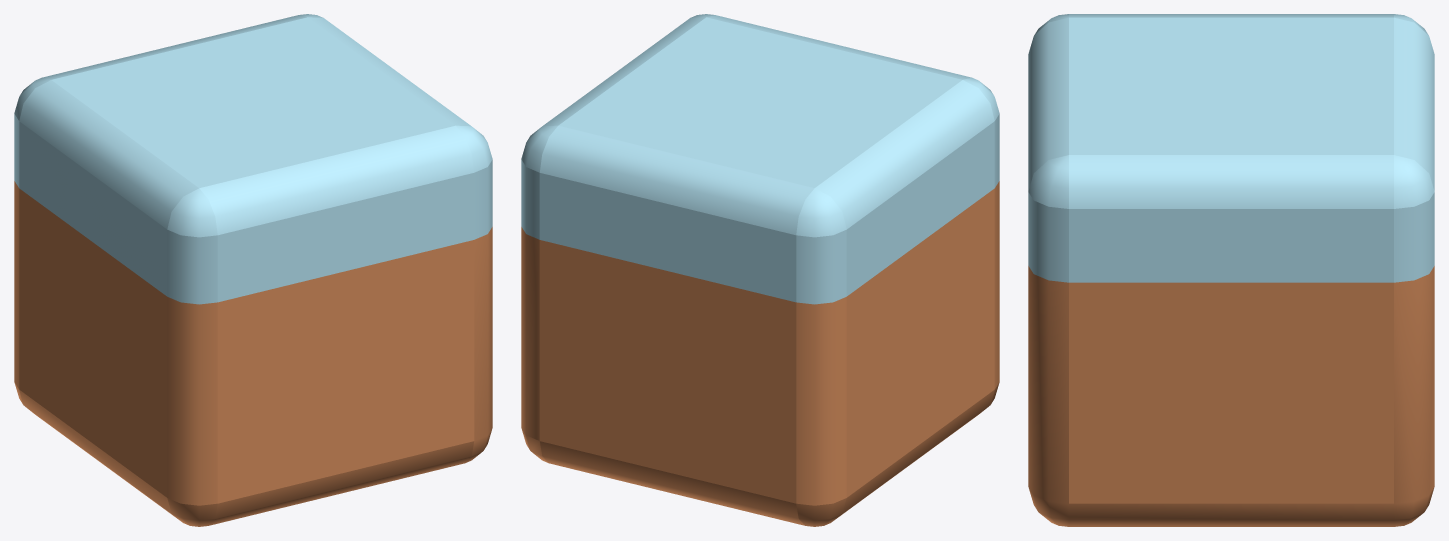
Rendered from blockSnowRounded.obj.
3 renders of one model, left to right at view 1: azimuth 30°, elevation 25°; view 2: azimuth 150°, elevation 25°; view 3: azimuth 270°, elevation 25°, orthographic. The views are drawn at different scales.
Visible parts, largest first — view 1: blockSnowRounded; view 2: blockSnowRounded; view 3: blockSnowRounded.
Part boxes in pixels (<box>): blockSnowRounded: <box>14,14,492,526</box>; blockSnowRounded: <box>521,14,999,526</box>; blockSnowRounded: <box>1028,14,1434,526</box>.
Size of the model in its own units: 1 by 1 by 1.
